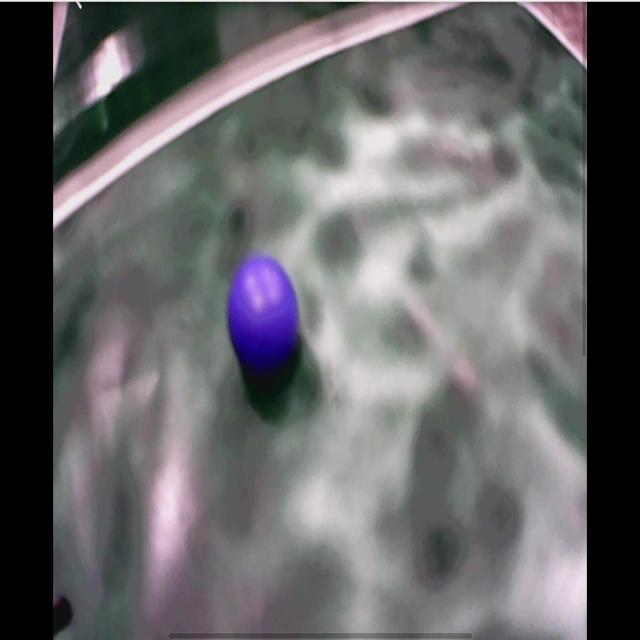ball: (232, 254, 295, 374)
